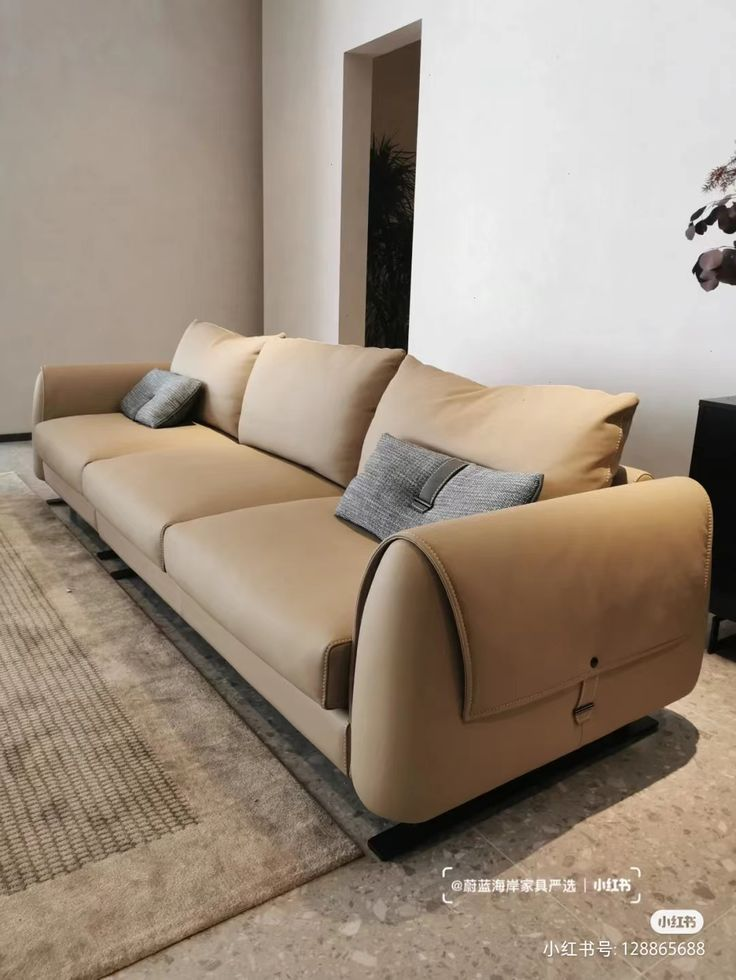3seatersofa: (33, 322, 712, 823)
backrest: (171, 321, 637, 499)
base: (44, 464, 346, 773)
leftarmrest: (343, 477, 711, 822)
leg: (367, 716, 658, 860), (108, 565, 135, 580), (95, 549, 121, 563), (47, 498, 65, 506)
pillow: (337, 433, 544, 537), (120, 369, 203, 429)
rightarmrest: (32, 364, 167, 477)
seat: (38, 414, 375, 706)
